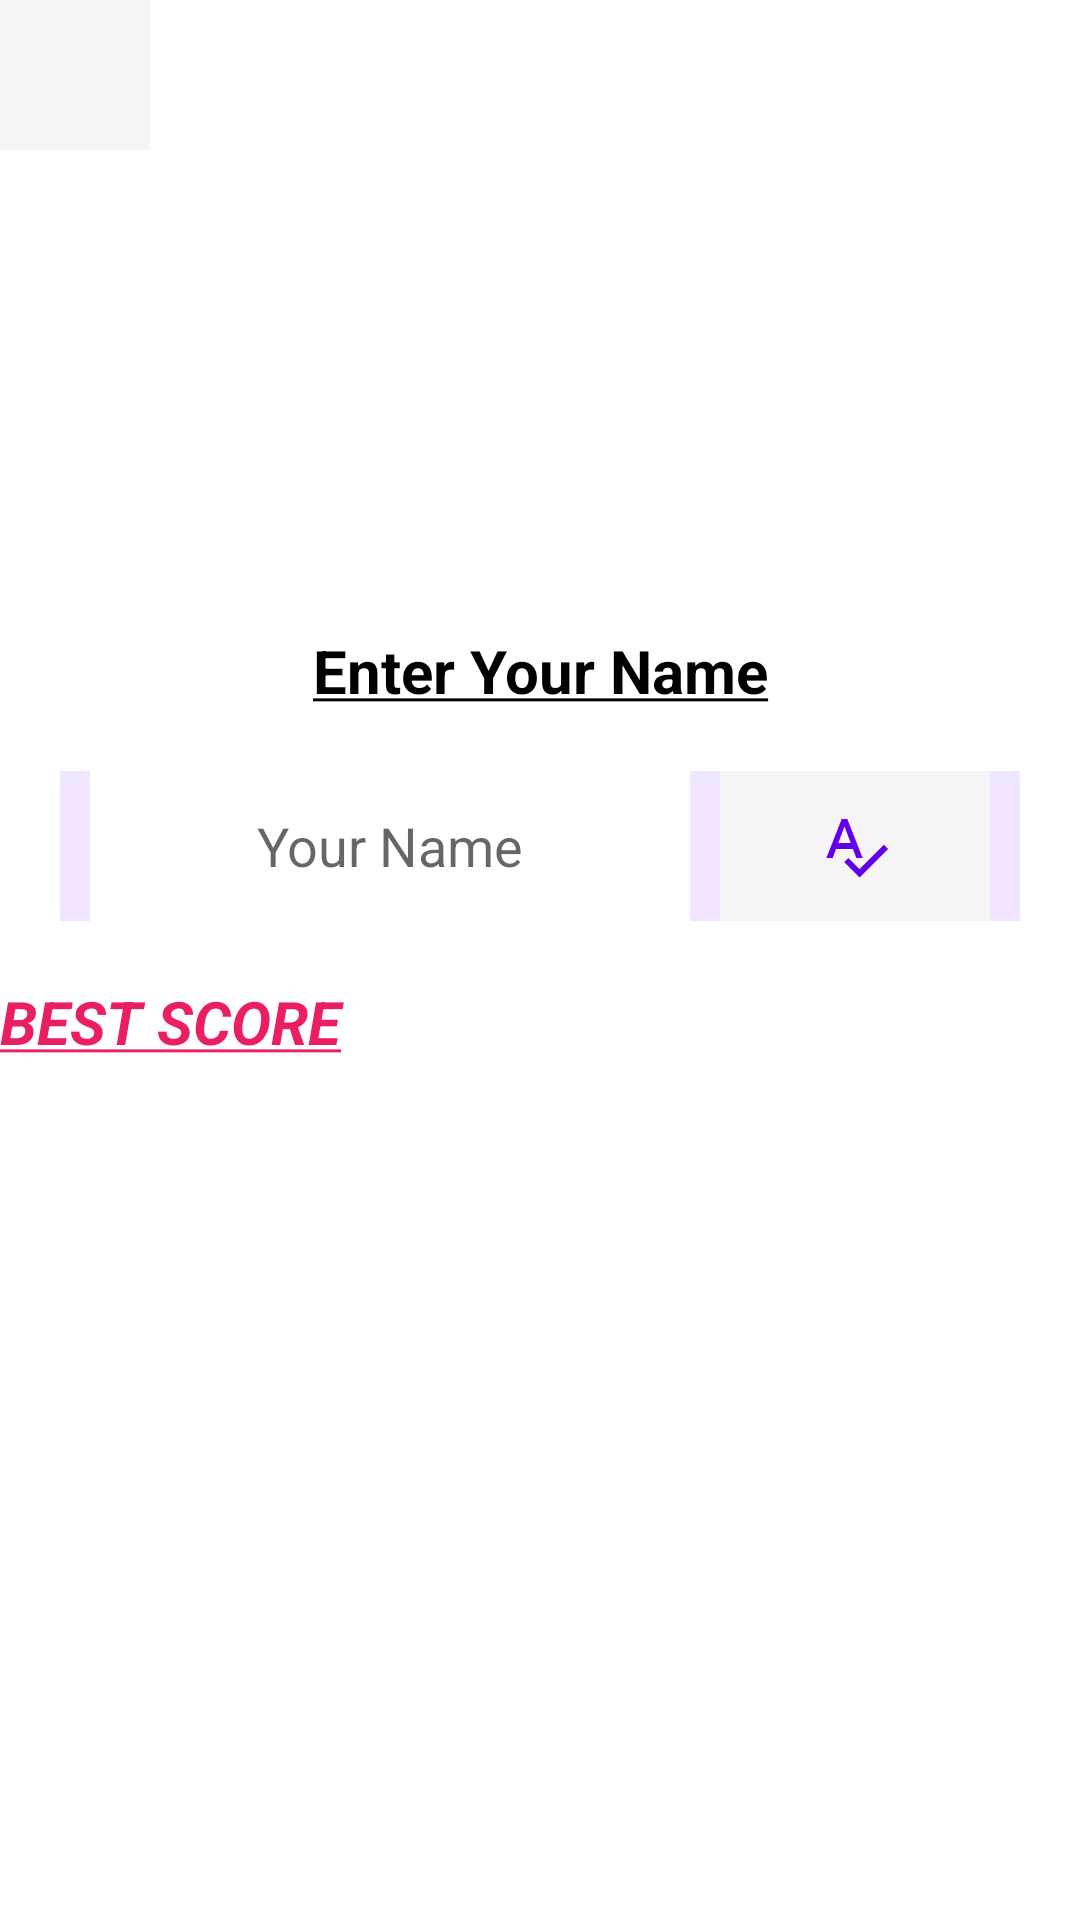

Icons on this 1080px x 1920px Android screen, each with the point to tap as (x=x, y=y):
spellcheck: (x=855, y=846)
